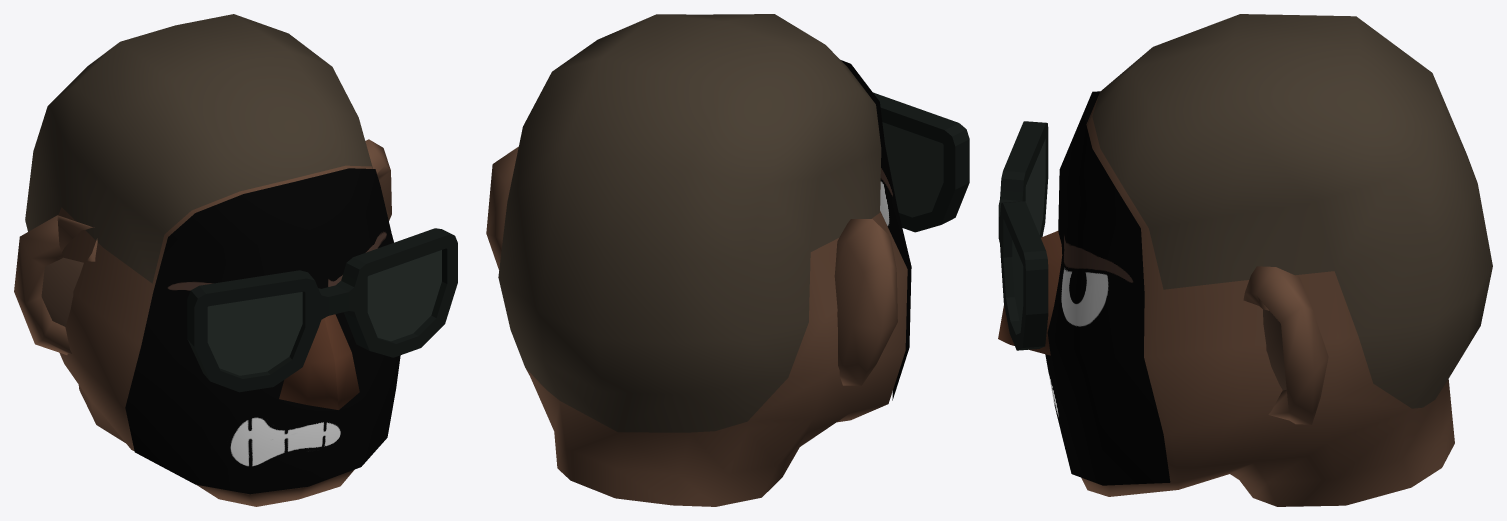
File: SeveredHead.fbx
3 views of the same model, side by side, from view 1: azimuth 30°, elevation 25°; view 2: azimuth 150°, elevation 25°; view 3: azimuth 270°, elevation 25° (orthographic). The views are drawn at different scales.
Parts seen in each view (by area): view 1: Head, glasses; view 2: Head, glasses; view 3: Head, glasses.
Boxes of the visible parts, <box> form: Head: <box>14,14,400,506</box>; glasses: <box>187,228,457,392</box>; Head: <box>486,14,911,506</box>; glasses: <box>873,92,969,232</box>; Head: <box>998,14,1492,506</box>; glasses: <box>998,121,1048,350</box>.
Bounding box in the file's own units: 38.33 × 39.53 × 40.55.
